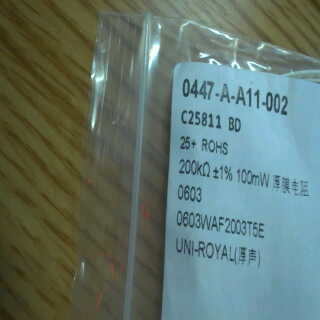200kR: (173, 154, 212, 181)
